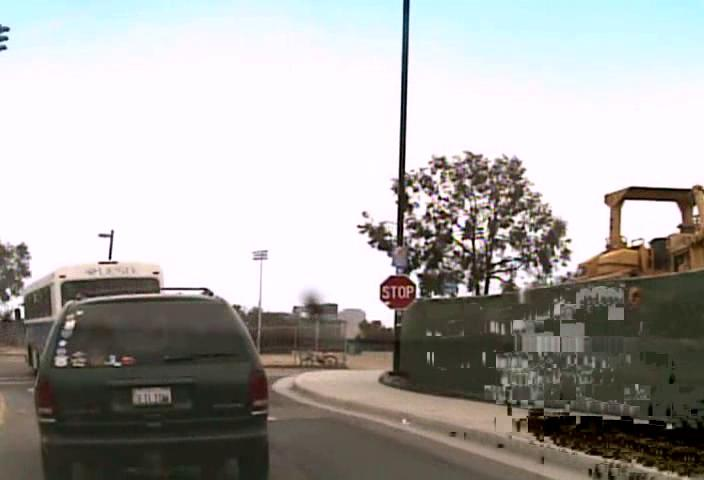stop: (378, 274, 416, 310)
